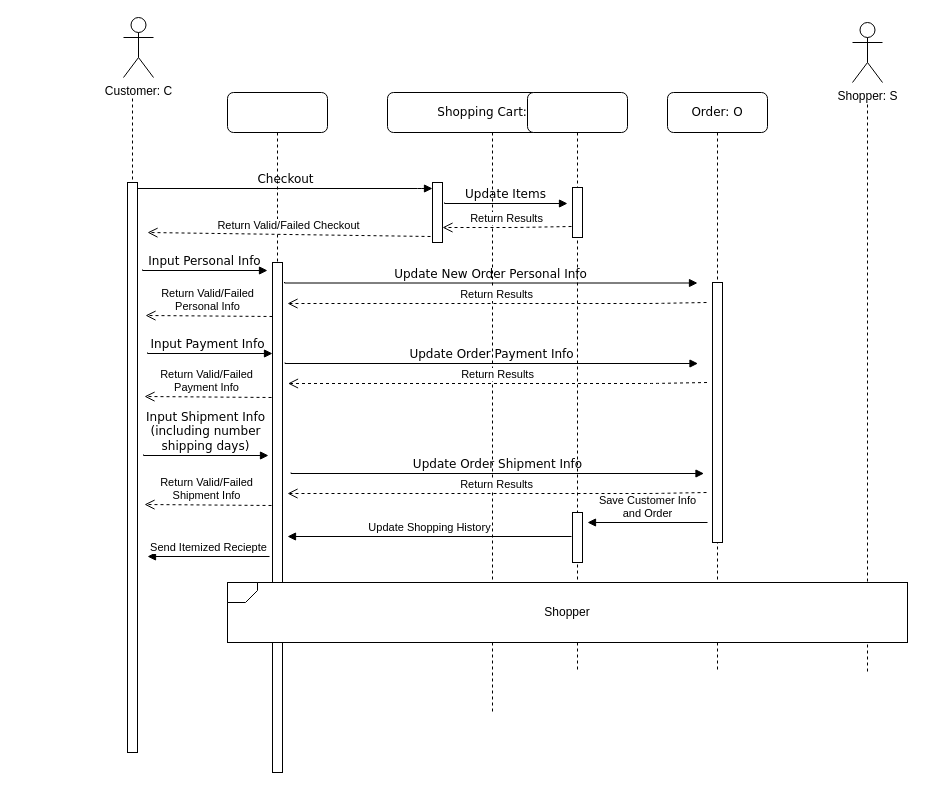
This 935x790 diagram has some shape labels left out. The shapes that lost their labels are listed below. From the top down, each one's box as (x1, y1, x2, y2) in pixels, then its label:
(526, 92, 628, 672): DataBase: DB
(226, 92, 328, 772): Online Grocery Store: GS
(226, 582, 258, 602): ref
